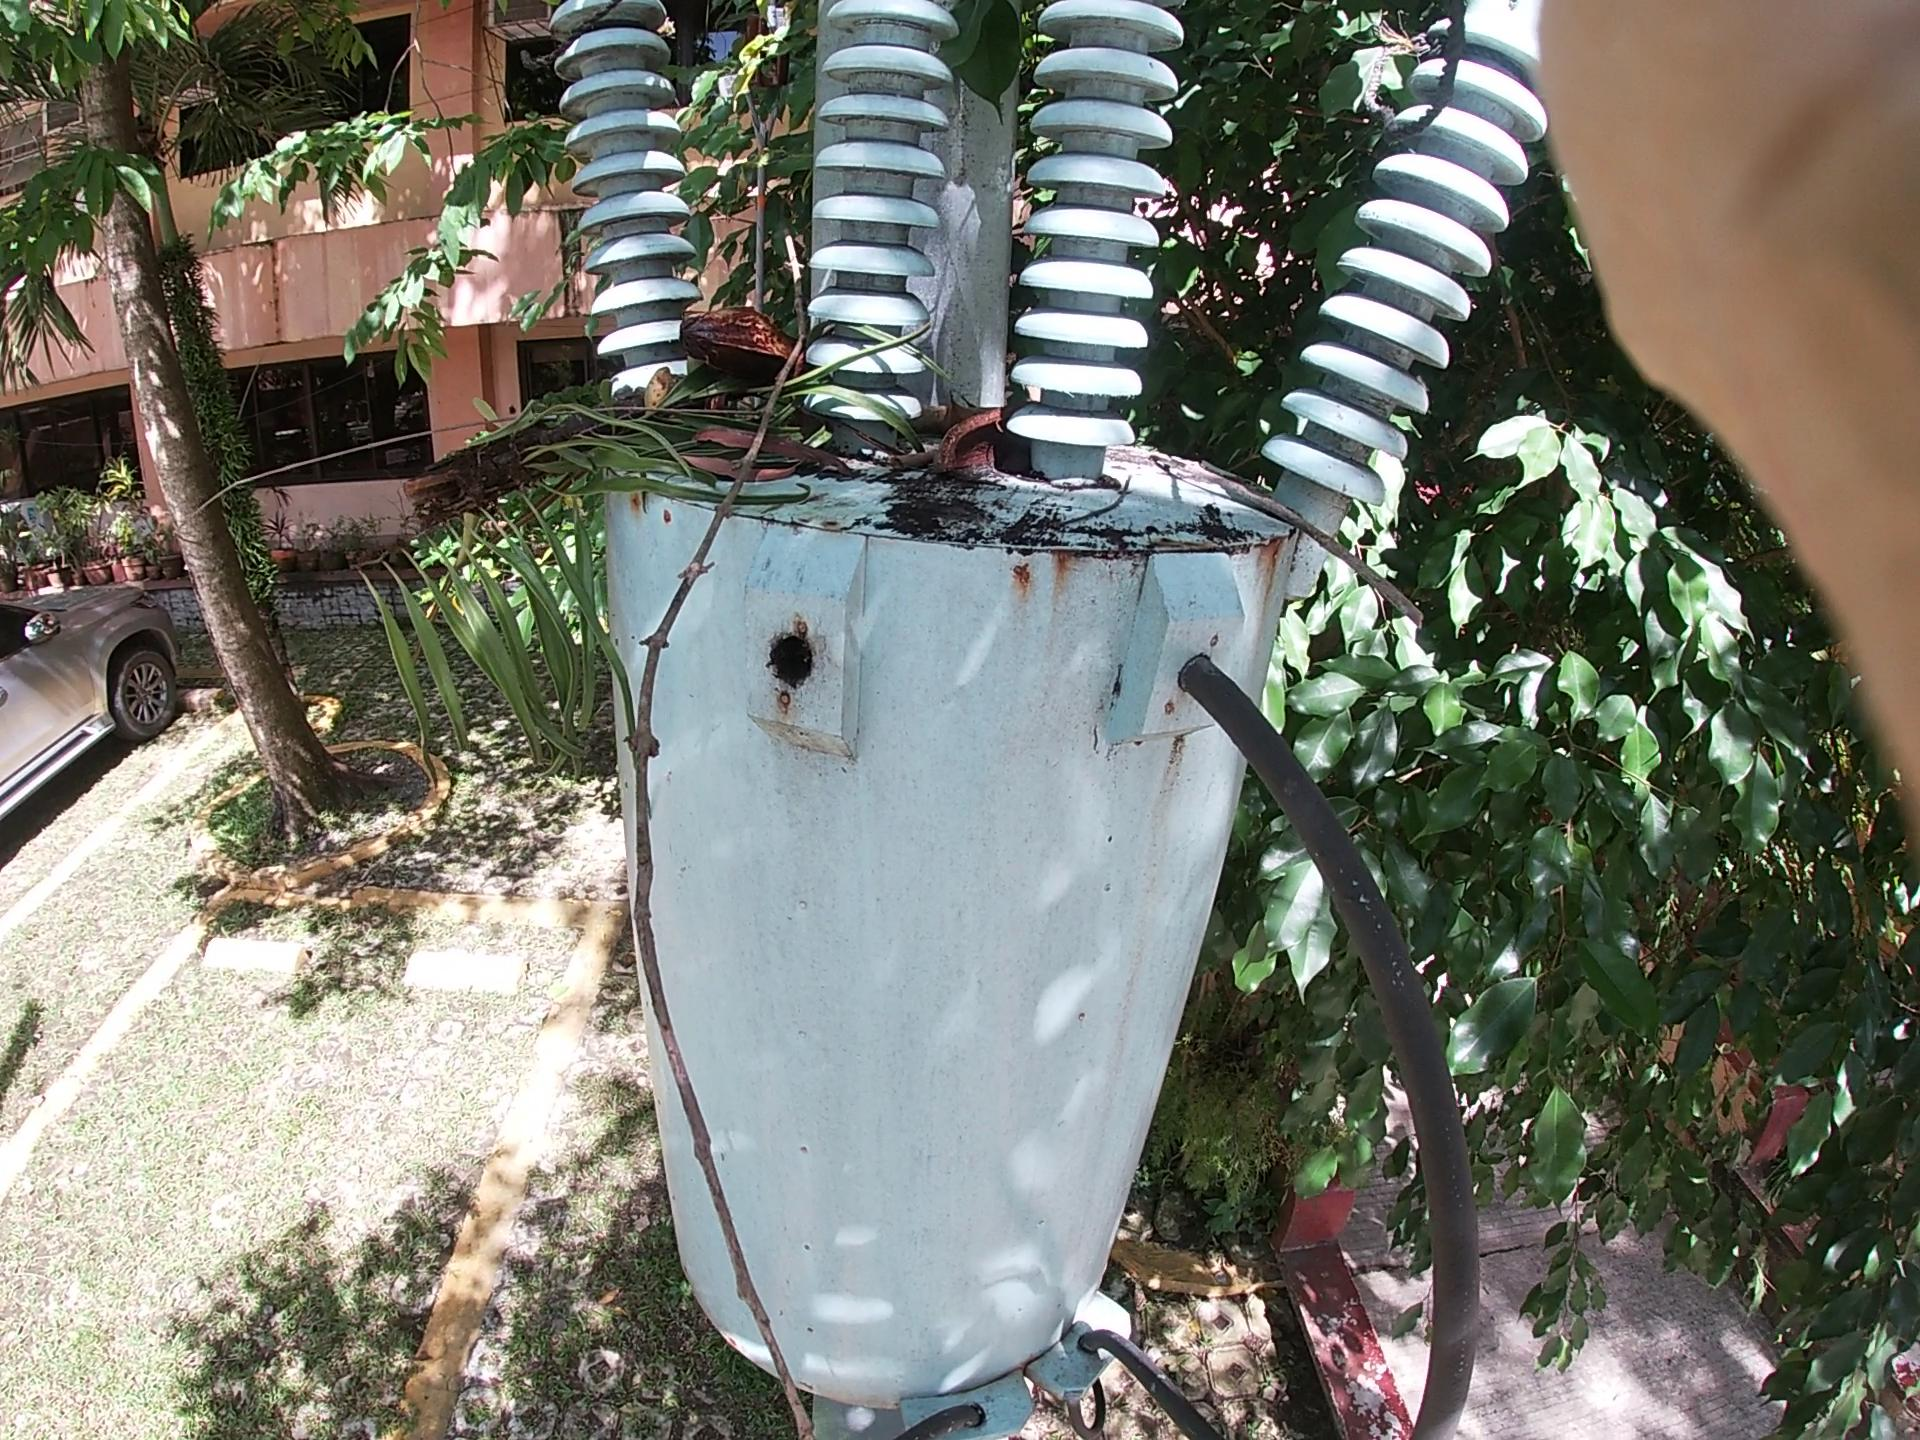branch with leaves: (401, 124, 965, 777), (588, 262, 890, 1389)
leaf: (618, 2, 1232, 260)
mahogany fruit: (650, 281, 819, 449), (924, 396, 1048, 493)
tree branch: (1064, 342, 1474, 711), (797, 327, 1113, 531)
